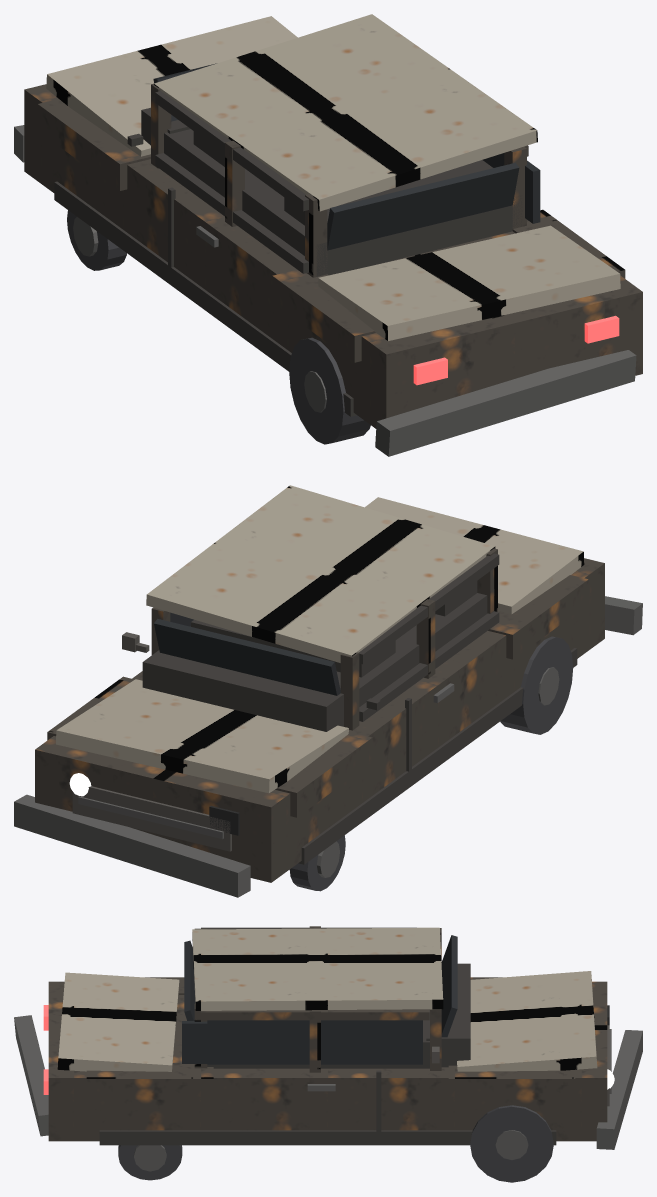
Rendered from rusty-car.glb.
The picture shows the model from 3 angles, top to bottom: view 1: azimuth 30°, elevation 25°; view 2: azimuth 150°, elevation 25°; view 3: azimuth 270°, elevation 25°; orthographic projection. The views are drawn at different scales.
Parts seen in each view (by area): view 1: RoofPanel, LowerTub, Trunk, Hood, RearBumper, InteriorTub, RearGlass, Sill_L, Tire_RL, FenderR_L, FenderF_L, FrameSill_L (+13 smaller); view 2: RoofPanel, LowerTub, Hood, FrontBumper, DashSlab, Trunk, Windshield, Sill_L, Grille, FenderR_L, Tire_RL, FenderF_L (+14 smaller); view 3: LowerTub, RoofPanel, Hood, Trunk, SideGlass_R, Sill_R, Tire_FR, FenderR_R, FenderF_R, FrontBumper, FrameRail_R, RearBumper (+12 smaller).
Boxes of the visible parts, box(x1,y1,x2,y2) form: RoofPanel: box(154, 14, 537, 211); LowerTub: box(24, 84, 642, 428); Trunk: box(318, 225, 620, 340); Hood: box(46, 16, 297, 156); RearBumper: box(375, 350, 636, 456); InteriorTub: box(164, 129, 522, 276); RearGlass: box(327, 162, 519, 250); Sill_L: box(54, 181, 356, 416); Tire_RL: box(289, 337, 370, 444); FenderR_L: box(272, 269, 375, 362); FenderF_L: box(37, 99, 150, 190); FrameSill_L: box(155, 153, 308, 273); RoofPanel: box(146, 485, 495, 662); LowerTub: box(35, 558, 604, 882); Hood: box(56, 679, 348, 793); FrontBumper: box(14, 794, 250, 897); DashSlab: box(142, 650, 343, 731); Trunk: box(365, 497, 584, 614); Windshield: box(154, 618, 340, 695); Sill_L: box(298, 648, 577, 864); Grille: box(72, 786, 231, 851); FenderR_L: box(488, 575, 588, 659); Tire_RL: box(500, 636, 573, 734); FenderF_L: box(275, 732, 372, 817); LowerTub: box(48, 981, 607, 1141); RoofPanel: box(192, 927, 443, 1010); Hood: box(457, 971, 597, 1071); Trunk: box(57, 972, 179, 1071); SideGlass_R: box(207, 1020, 422, 1064); Sill_R: box(99, 1130, 556, 1145); Tire_FR: box(470, 1105, 553, 1182); FenderR_R: box(86, 1063, 213, 1099); FenderF_R: box(448, 1065, 575, 1099); FrontBumper: box(596, 1030, 642, 1149); FrameRail_R: box(201, 1009, 429, 1020); RearBumper: box(14, 1015, 48, 1136).
Bounding box in the file's own units: 2.07 × 1.53 × 4.96.
10 materials, 10 textured.
